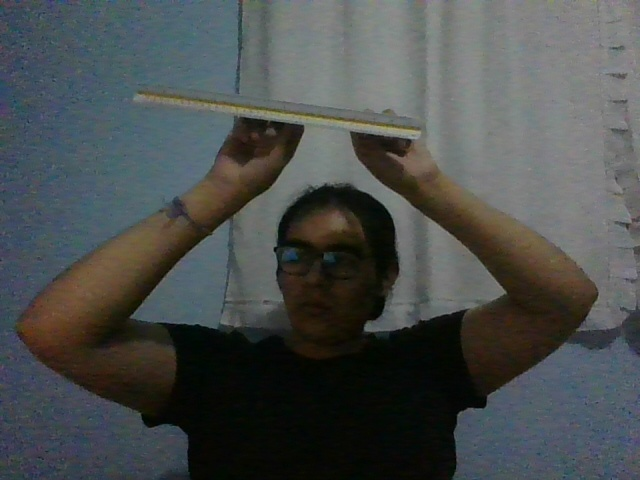regla: (133, 83, 428, 141)
